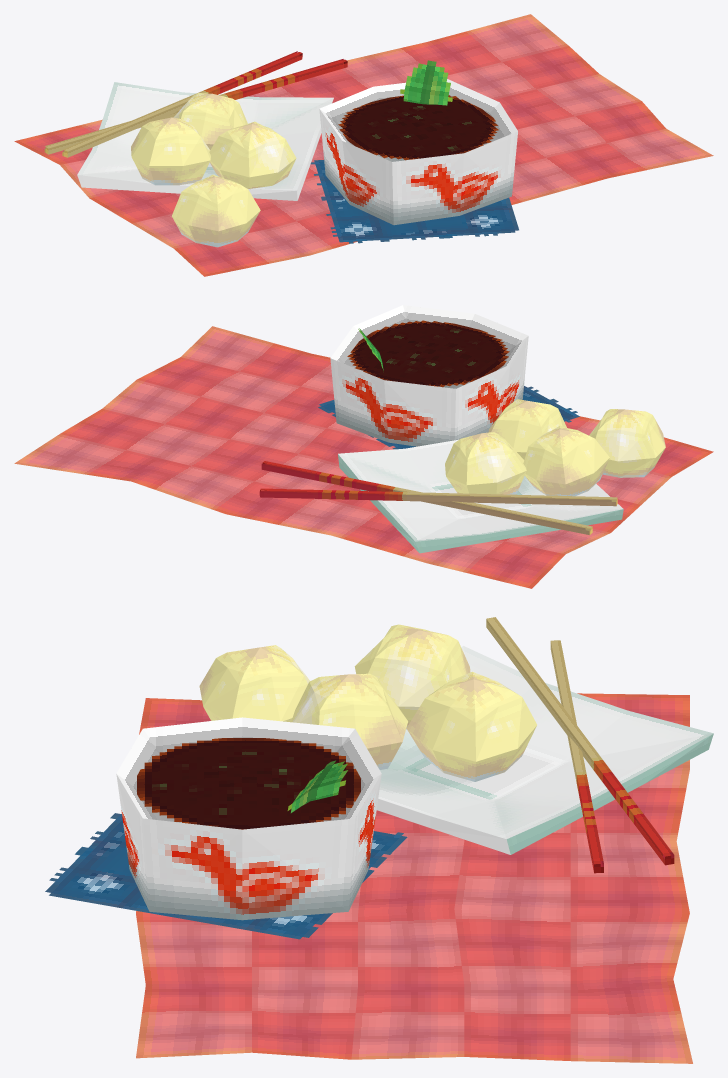
Rendered from dumplings.glb.
3 views of the same model, one above another, from view 1: azimuth 30°, elevation 25°; view 2: azimuth 150°, elevation 25°; view 3: azimuth 270°, elevation 25° (orthographic). The views are drawn at different scales.
Visible parts, largest first — view 1: Object_4; view 2: Object_4; view 3: Object_4.
Part boxes in pixels (<box>): Object_4: <box>14,14,713,276</box>; Object_4: <box>14,305,713,588</box>; Object_4: <box>45,617,713,1063</box>.
Size of the model in its own units: 8.51 by 1.54 by 6.59.
1 material, 1 textured.
